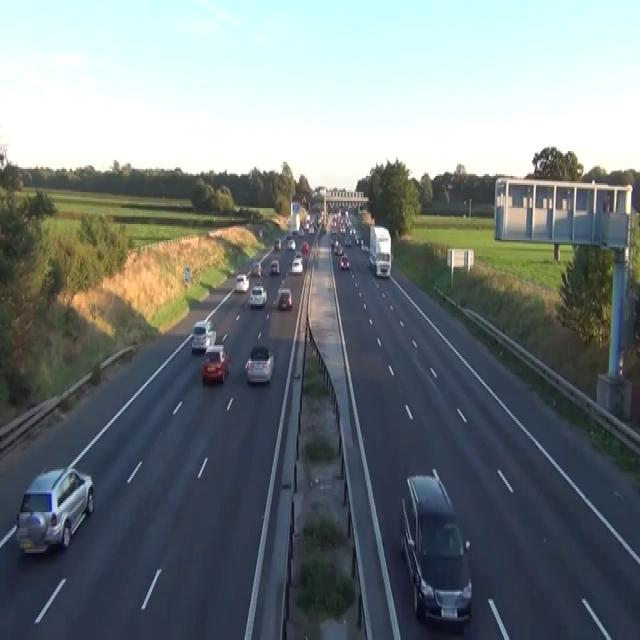Car: (400, 468, 472, 626), (15, 466, 94, 554), (244, 345, 274, 384), (201, 345, 230, 384), (191, 318, 216, 354), (248, 284, 267, 308), (277, 288, 293, 309), (234, 274, 249, 292), (291, 258, 303, 274), (251, 262, 262, 276), (340, 254, 350, 268), (270, 260, 279, 274), (334, 242, 344, 254), (330, 231, 338, 245), (287, 238, 295, 251), (301, 240, 309, 252), (274, 237, 281, 250), (293, 250, 302, 260), (354, 233, 362, 243), (360, 242, 368, 252), (344, 235, 351, 245), (308, 224, 314, 233), (286, 231, 292, 240), (298, 228, 304, 236), (360, 238, 364, 247), (259, 228, 262, 236)
Truck: (368, 224, 392, 277), (290, 201, 300, 233)
